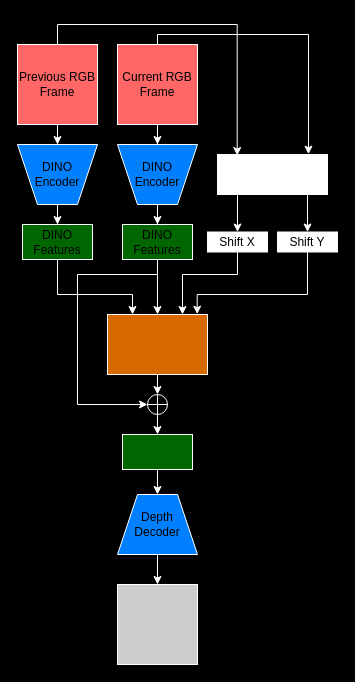
Image size: 355x682. Some labels were removed from this diagram. Here are the shapes that lost their labels. From the top down, the box of each, then its label:
(216, 154, 328, 194): Phase Correlation
(106, 314, 208, 374): Zero-Init CNN Adapter
(122, 434, 192, 470): Updated Features
(116, 584, 198, 664): Output Depth Map
